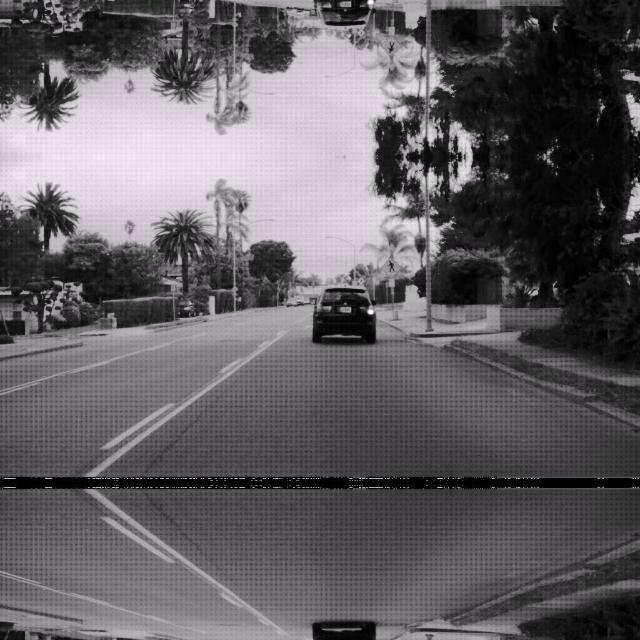pedestrianCrossing: (378, 255, 402, 277), (378, 35, 402, 57)
